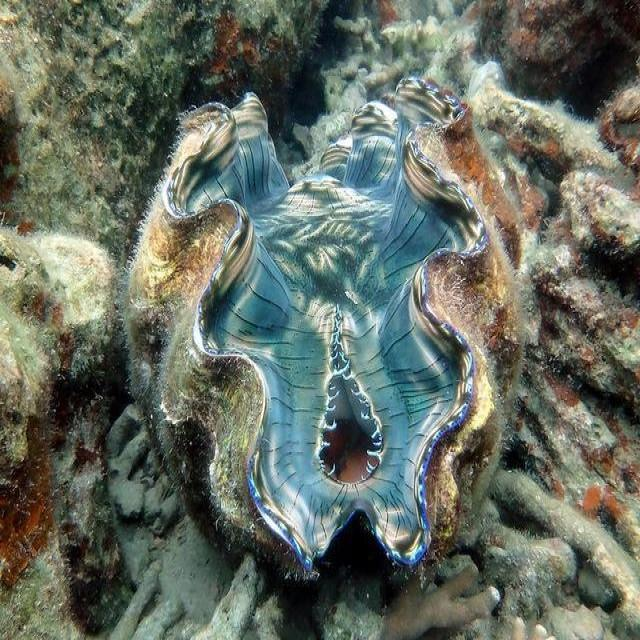reefs: (125, 75, 528, 581)
